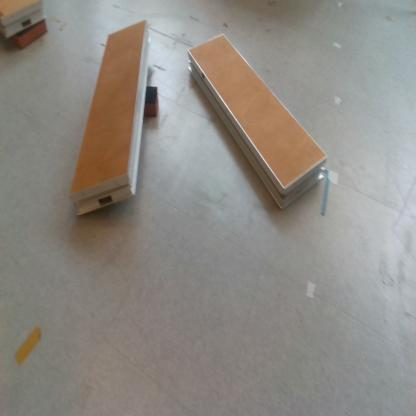Stairs: (190, 35, 328, 215), (73, 19, 150, 218), (1, 2, 45, 43)
